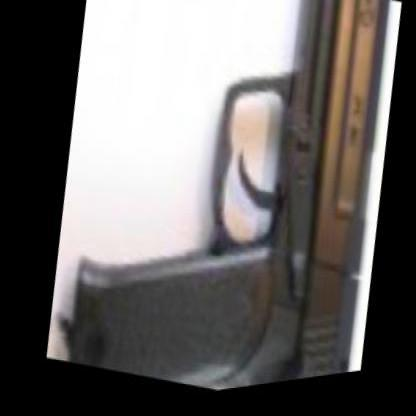pistol: (42, 0, 415, 411)
